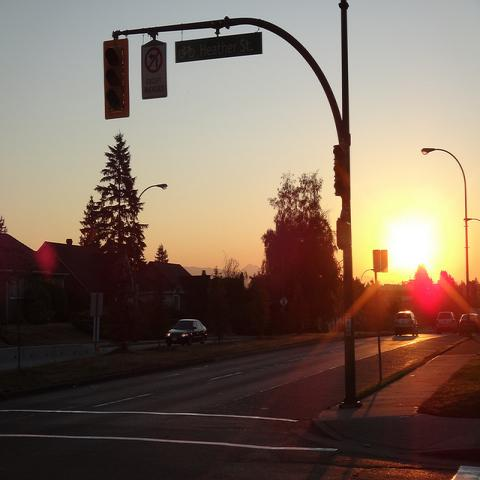car: (165, 318, 208, 346), (394, 310, 419, 336), (436, 310, 457, 334), (459, 313, 479, 337)
